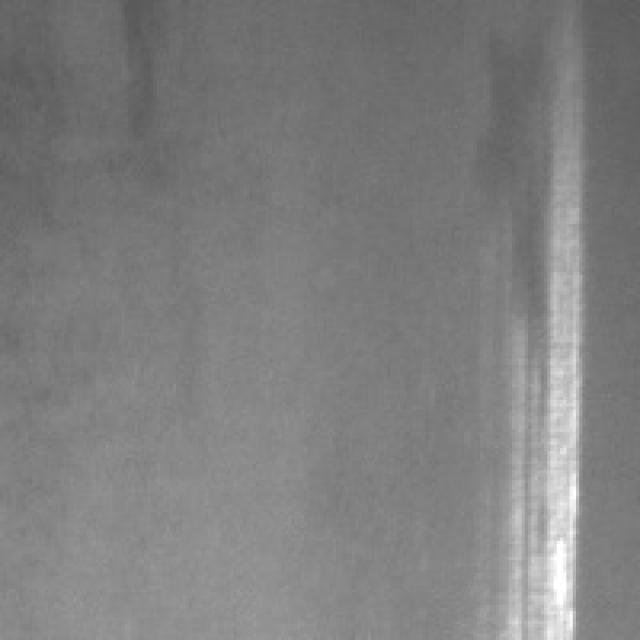inclusion: (111, 0, 166, 134)
scratches: (499, 138, 576, 630)
